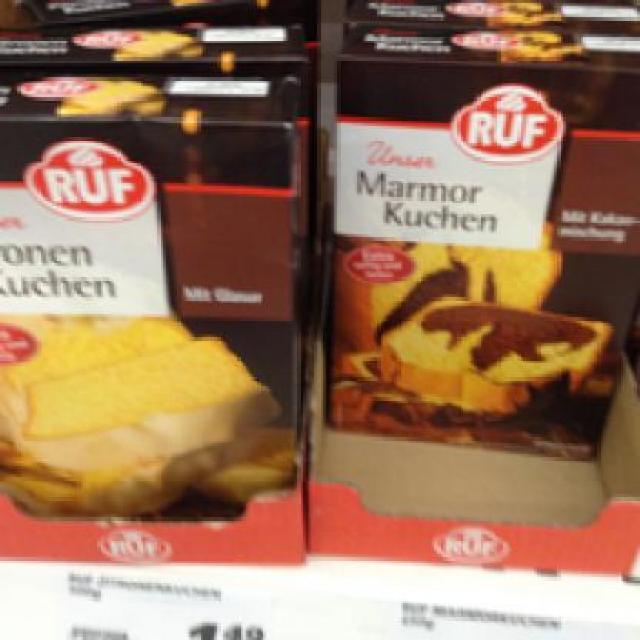Cake: (0, 53, 312, 566), (320, 22, 634, 475)
